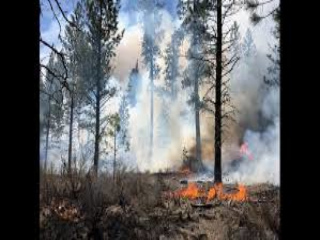fire: (172, 179, 257, 204), (236, 143, 256, 158)
smoke: (113, 32, 190, 167), (197, 36, 267, 144)
